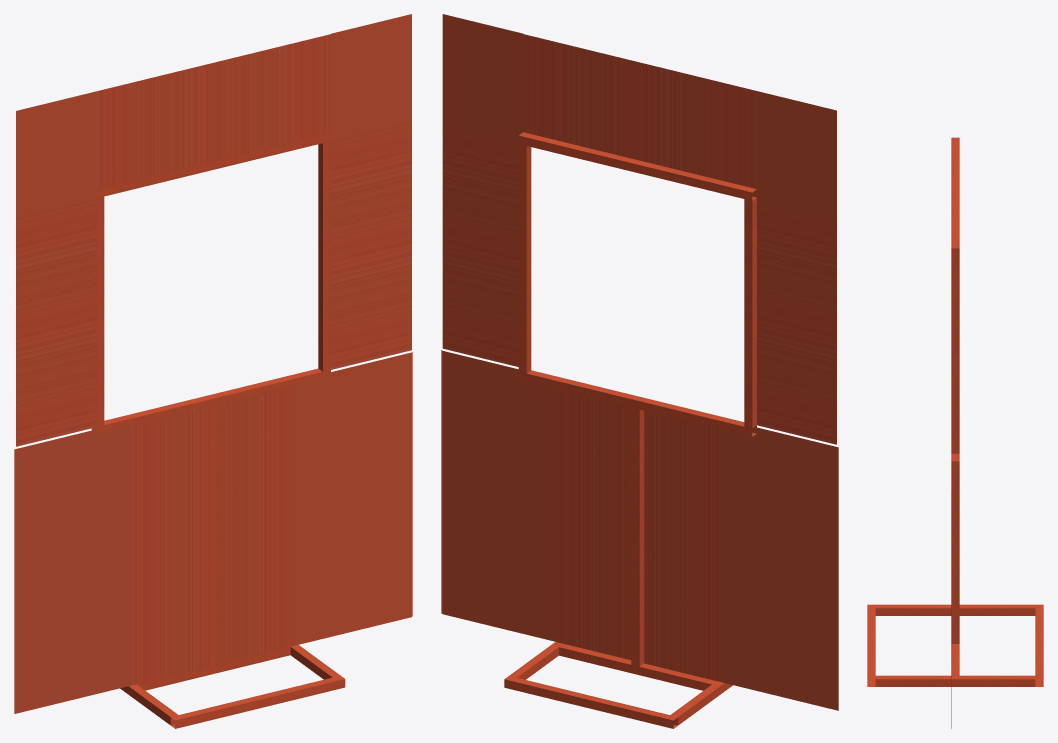
The picture shows the model from 3 angles, left to right: view 1: azimuth 30°, elevation 25°; view 2: azimuth 150°, elevation 25°; view 3: azimuth 270°, elevation 25°; orthographic projection. The views are drawn at different scales.
Parts seen in each view (by area): view 1: stick; view 2: stick; view 3: stick.
Boxes of the visible parts, x1,y1,x2,y2 form: stick: [14, 14, 412, 728]; stick: [441, 14, 838, 728]; stick: [867, 137, 1043, 728].
Size of the model in its own units: 2.46 by 1.05 by 3.61.
Materials: 1 (1 with a texture image).
